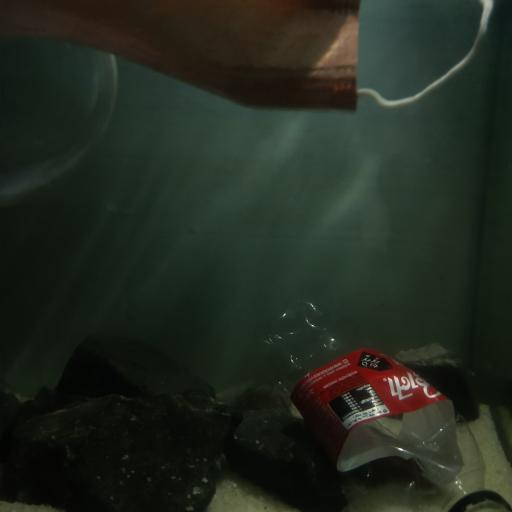mask: (0, 0, 491, 106)
plastic_bottle: (255, 295, 510, 512)
